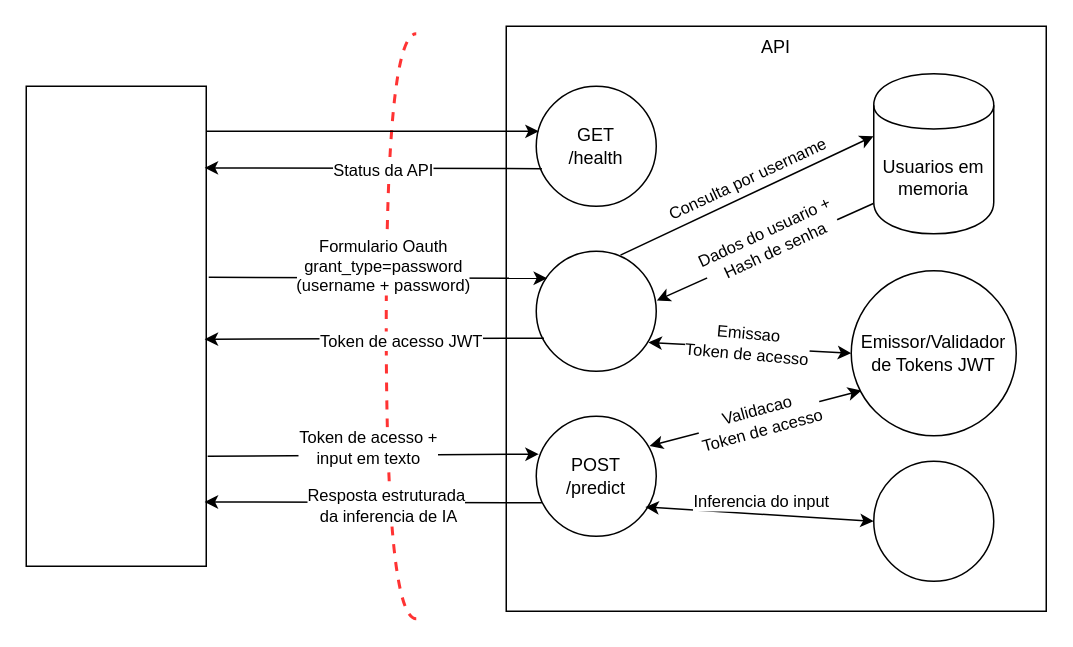
This 1073x647 diagram has some shape labels left out. Each missing label, with the centre of its shape:
"Cliente/Admin" goes at pixel 115 325.
"Mock AI" goes at pixel 933 520.
"POST /auth/token" goes at pixel 595 310.
